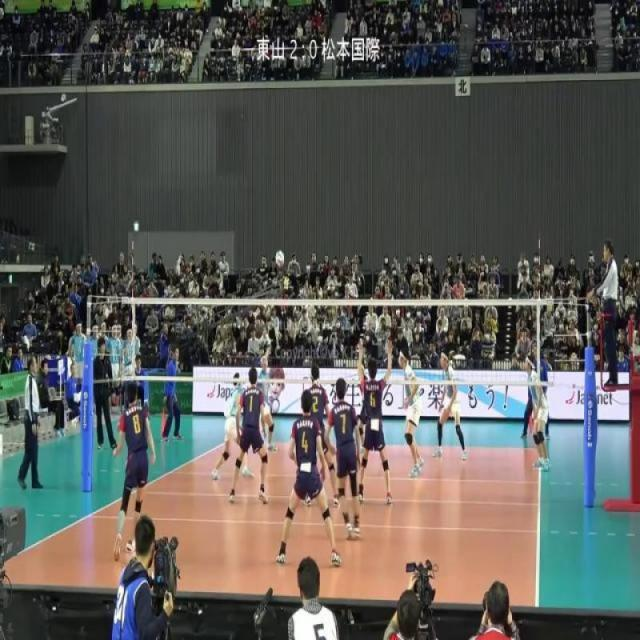volleyball: (275, 250, 285, 266)
